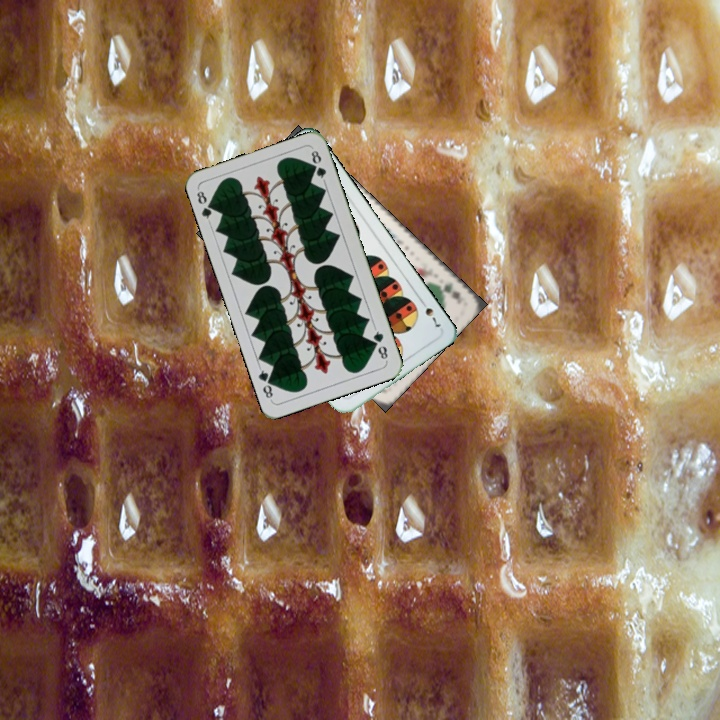G8: (192, 187, 218, 225), (369, 324, 390, 364)
GK: (431, 278, 468, 307)
S7: (416, 295, 444, 330)
